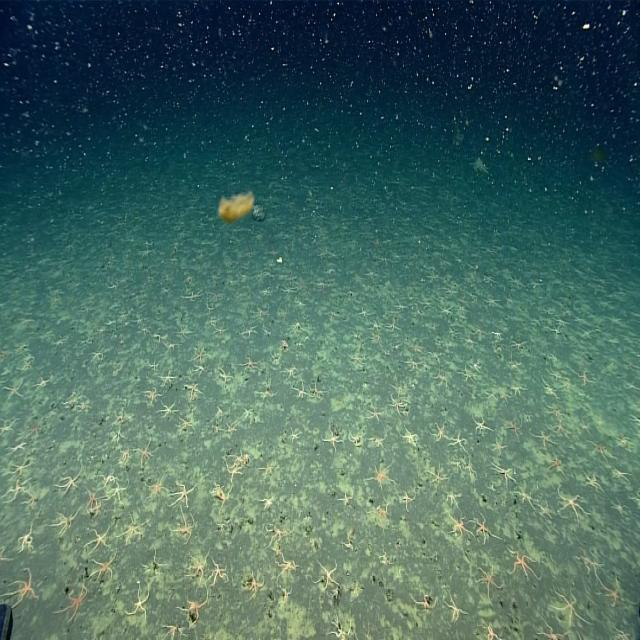brittle-stars: (4, 569, 42, 612), (552, 585, 586, 627), (180, 594, 213, 626), (509, 549, 539, 584), (64, 582, 88, 621), (558, 489, 584, 522), (129, 586, 151, 620), (478, 564, 501, 596), (88, 557, 115, 584), (122, 515, 146, 544), (474, 514, 497, 544), (172, 513, 195, 543), (186, 554, 208, 585), (0, 478, 32, 499), (598, 584, 628, 606), (318, 563, 342, 590), (172, 482, 193, 512), (18, 521, 37, 554), (412, 590, 437, 615), (446, 594, 468, 622), (538, 620, 568, 640), (588, 439, 612, 464), (371, 462, 394, 488), (54, 510, 76, 537), (7, 457, 34, 479), (225, 462, 246, 490), (577, 554, 605, 575), (58, 471, 81, 496), (144, 476, 166, 502), (210, 560, 230, 588), (244, 570, 264, 598), (492, 465, 516, 488), (502, 414, 523, 440), (426, 466, 446, 493), (516, 482, 536, 509), (2, 379, 25, 402), (268, 523, 291, 546), (88, 526, 110, 550), (448, 514, 469, 539), (322, 426, 342, 452), (140, 557, 167, 576), (533, 428, 556, 450), (108, 480, 127, 506), (136, 439, 154, 466), (575, 365, 596, 388), (274, 557, 298, 577), (332, 619, 354, 640), (210, 481, 231, 503), (256, 381, 278, 402), (481, 620, 504, 640), (471, 413, 490, 437), (548, 453, 567, 477), (164, 621, 188, 640), (25, 417, 44, 441), (584, 472, 603, 495), (374, 504, 391, 529), (183, 381, 203, 402), (216, 367, 234, 390), (613, 623, 637, 640), (241, 355, 260, 376), (554, 419, 573, 440), (450, 432, 468, 454), (144, 384, 162, 406), (178, 415, 196, 437), (112, 407, 130, 429), (536, 498, 552, 522), (505, 356, 524, 376), (402, 426, 420, 447), (181, 287, 202, 305), (389, 394, 406, 416), (432, 421, 448, 444), (240, 322, 259, 341), (160, 401, 178, 421), (459, 364, 476, 385), (162, 368, 178, 390), (277, 586, 293, 608), (236, 444, 252, 466), (292, 380, 307, 403), (406, 355, 424, 374), (175, 321, 193, 340), (610, 468, 632, 483), (547, 404, 565, 422), (400, 488, 414, 511), (464, 333, 480, 353), (98, 470, 114, 490), (462, 462, 478, 482), (366, 405, 381, 426), (87, 488, 100, 512), (311, 382, 325, 404), (348, 351, 366, 368), (192, 360, 209, 378), (369, 435, 387, 452), (22, 490, 39, 508), (540, 383, 558, 400), (491, 438, 507, 457), (192, 345, 208, 364), (339, 490, 354, 510), (348, 427, 363, 447), (391, 379, 408, 396), (435, 371, 451, 389), (445, 490, 458, 512), (261, 493, 276, 511), (262, 460, 276, 479), (342, 531, 354, 553), (512, 383, 528, 399), (386, 317, 400, 335), (162, 340, 176, 358), (8, 442, 28, 454), (286, 428, 298, 448), (109, 361, 122, 379), (92, 347, 105, 365), (0, 419, 15, 434), (224, 421, 237, 438), (118, 448, 130, 466), (512, 336, 527, 350), (284, 364, 297, 380), (498, 387, 510, 404), (615, 434, 632, 446), (376, 552, 391, 565), (268, 353, 281, 368), (612, 500, 624, 516), (34, 374, 45, 391), (549, 347, 559, 365), (148, 357, 160, 372), (213, 523, 230, 533), (62, 396, 76, 408), (155, 331, 167, 345), (454, 456, 465, 470), (211, 423, 221, 438), (564, 374, 572, 392), (242, 407, 254, 419), (547, 372, 561, 382), (493, 327, 503, 341), (142, 324, 150, 339), (371, 334, 382, 344), (365, 623, 371, 640), (353, 329, 363, 339), (280, 339, 288, 350), (215, 406, 224, 415), (370, 322, 380, 330), (80, 402, 88, 410)
